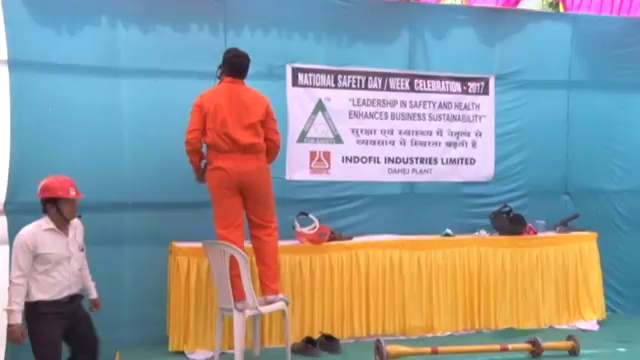helmet: (37, 173, 85, 201)
helmet_off: (216, 44, 252, 84)
helmet_on: (36, 173, 86, 227)
person: (185, 41, 294, 307), (7, 168, 99, 360)
